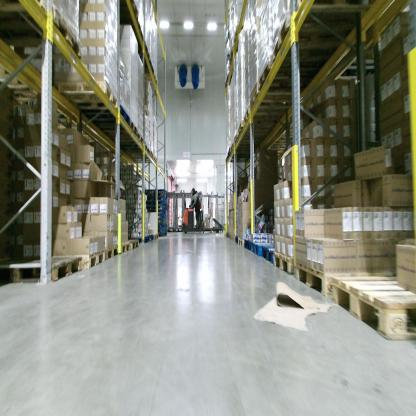pallet: (328, 272, 415, 344), (1, 6, 85, 64), (272, 12, 362, 63), (52, 77, 120, 111), (255, 55, 323, 89), (1, 255, 83, 283), (250, 82, 321, 109), (294, 261, 340, 300), (77, 103, 130, 128), (1, 2, 54, 23), (113, 11, 144, 44), (298, 1, 367, 15), (242, 105, 283, 124), (239, 119, 283, 136), (100, 118, 138, 136), (233, 128, 272, 145), (273, 251, 296, 277), (77, 249, 105, 270), (111, 1, 140, 20), (108, 132, 144, 146), (231, 139, 271, 151), (115, 144, 150, 155), (250, 242, 275, 256), (120, 150, 155, 160), (136, 54, 154, 73), (133, 39, 150, 59), (226, 147, 256, 158), (225, 154, 257, 164), (261, 245, 277, 264), (103, 243, 119, 260), (126, 155, 159, 163), (143, 187, 167, 195), (120, 240, 131, 255), (143, 192, 166, 199), (147, 200, 165, 208), (145, 72, 158, 83), (144, 195, 165, 201), (131, 239, 140, 251), (138, 235, 150, 244), (244, 240, 251, 252), (238, 235, 244, 248), (147, 235, 154, 243), (157, 232, 166, 238), (153, 233, 159, 241), (156, 206, 165, 211), (156, 211, 165, 216), (158, 224, 165, 229), (231, 234, 235, 242), (164, 201, 168, 209), (159, 228, 165, 233), (158, 219, 164, 224), (158, 215, 165, 219), (235, 235, 238, 244), (229, 233, 232, 241), (225, 233, 229, 239), (164, 220, 168, 224), (164, 208, 168, 212), (164, 227, 167, 232), (164, 224, 167, 229), (165, 212, 168, 217), (165, 217, 168, 220)
pallet_truck: (181, 193, 219, 233)
